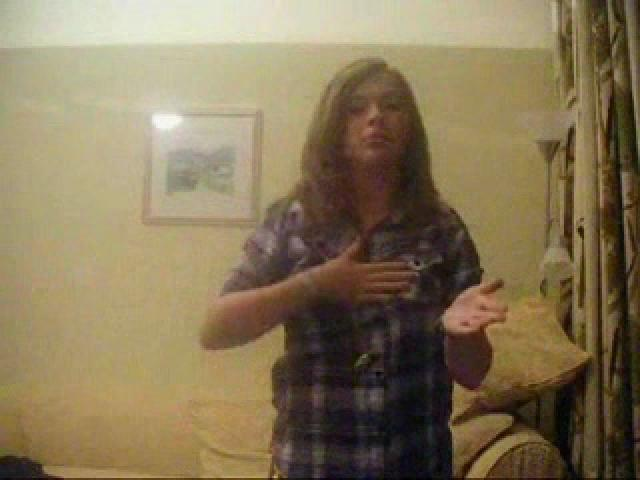F: (205, 58, 501, 478)
